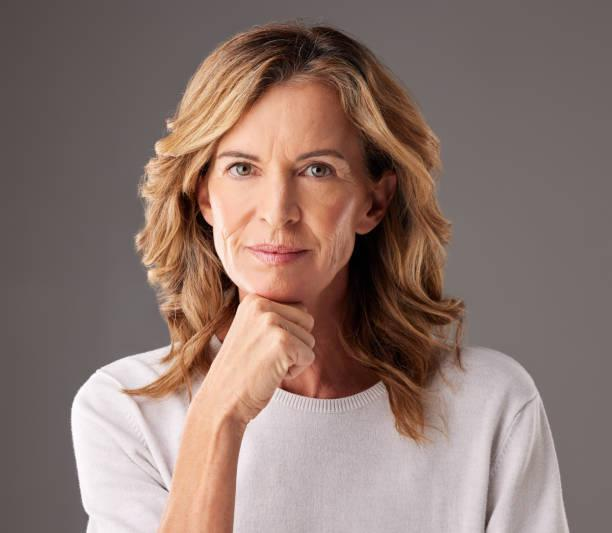Dry-Skin: (309, 189, 369, 281), (243, 103, 334, 151)
